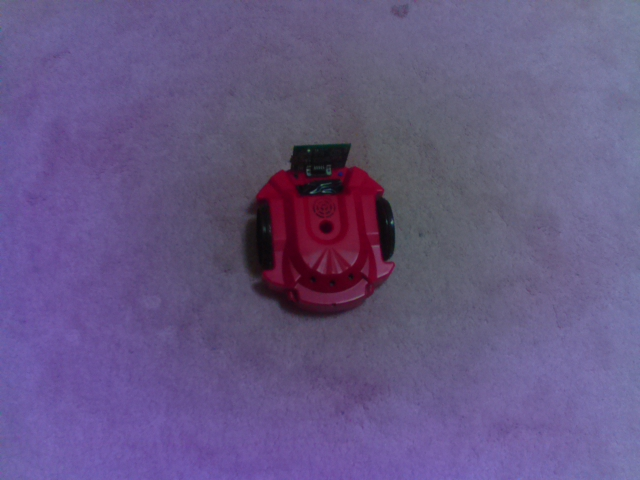chassis: (251, 138, 400, 313)
